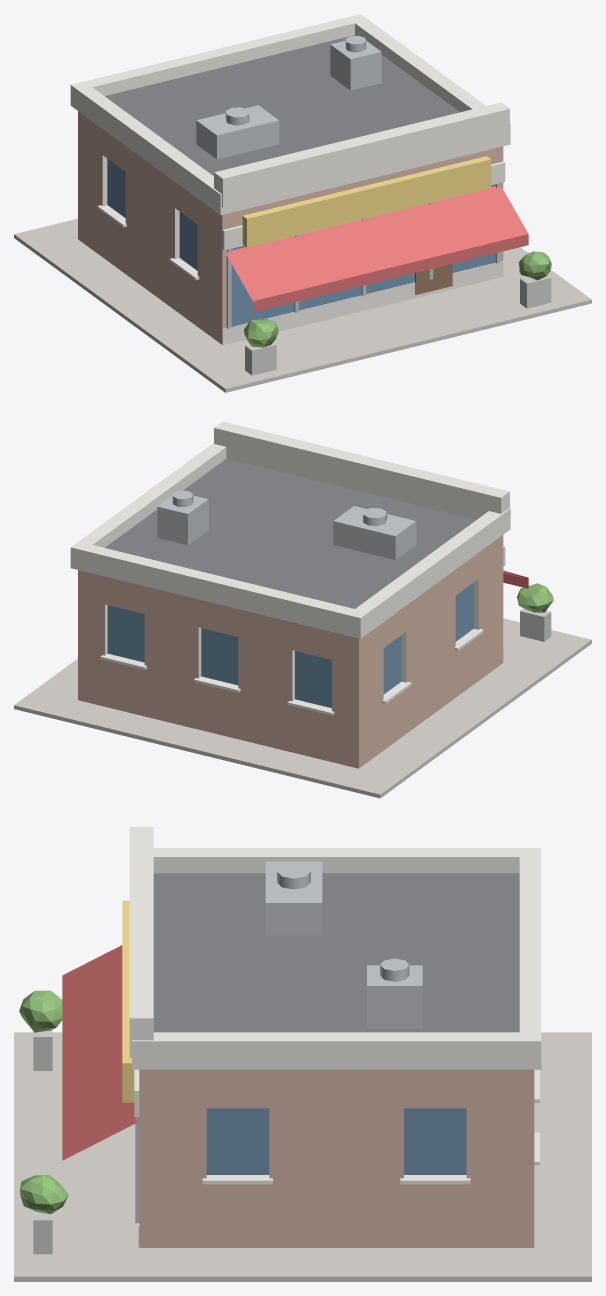
3 renders of one model, top to bottom at view 1: azimuth 30°, elevation 25°; view 2: azimuth 150°, elevation 25°; view 3: azimuth 270°, elevation 25°, orthographic. The views are drawn at different scales.
Parts seen in each view (by area): view 1: c_1_1_d; view 2: c_1_1_d; view 3: c_1_1_d.
Boxes of the visible parts, box(x1,y1,x2,y2) form: c_1_1_d: box(14, 14, 591, 392); c_1_1_d: box(14, 421, 591, 798); c_1_1_d: box(14, 827, 591, 1281).
Size of the model in its own units: 12 by 5.79 by 12.
